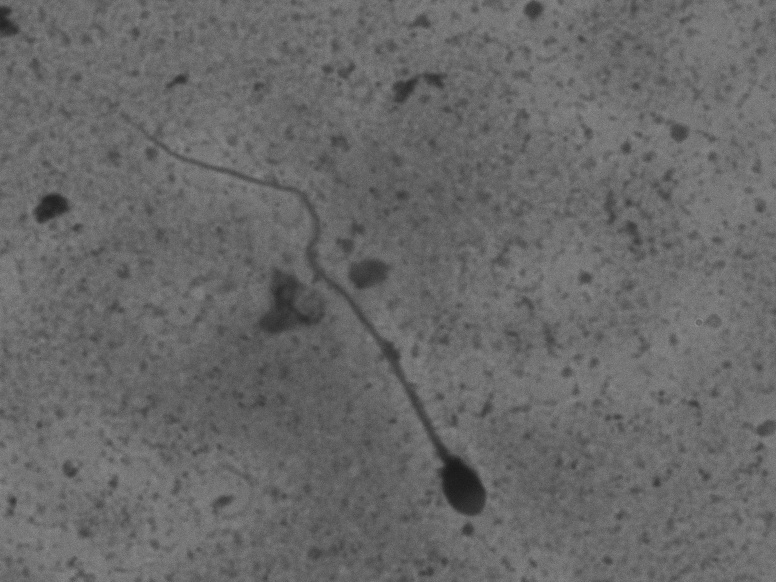Normal: (79, 86, 510, 525)
